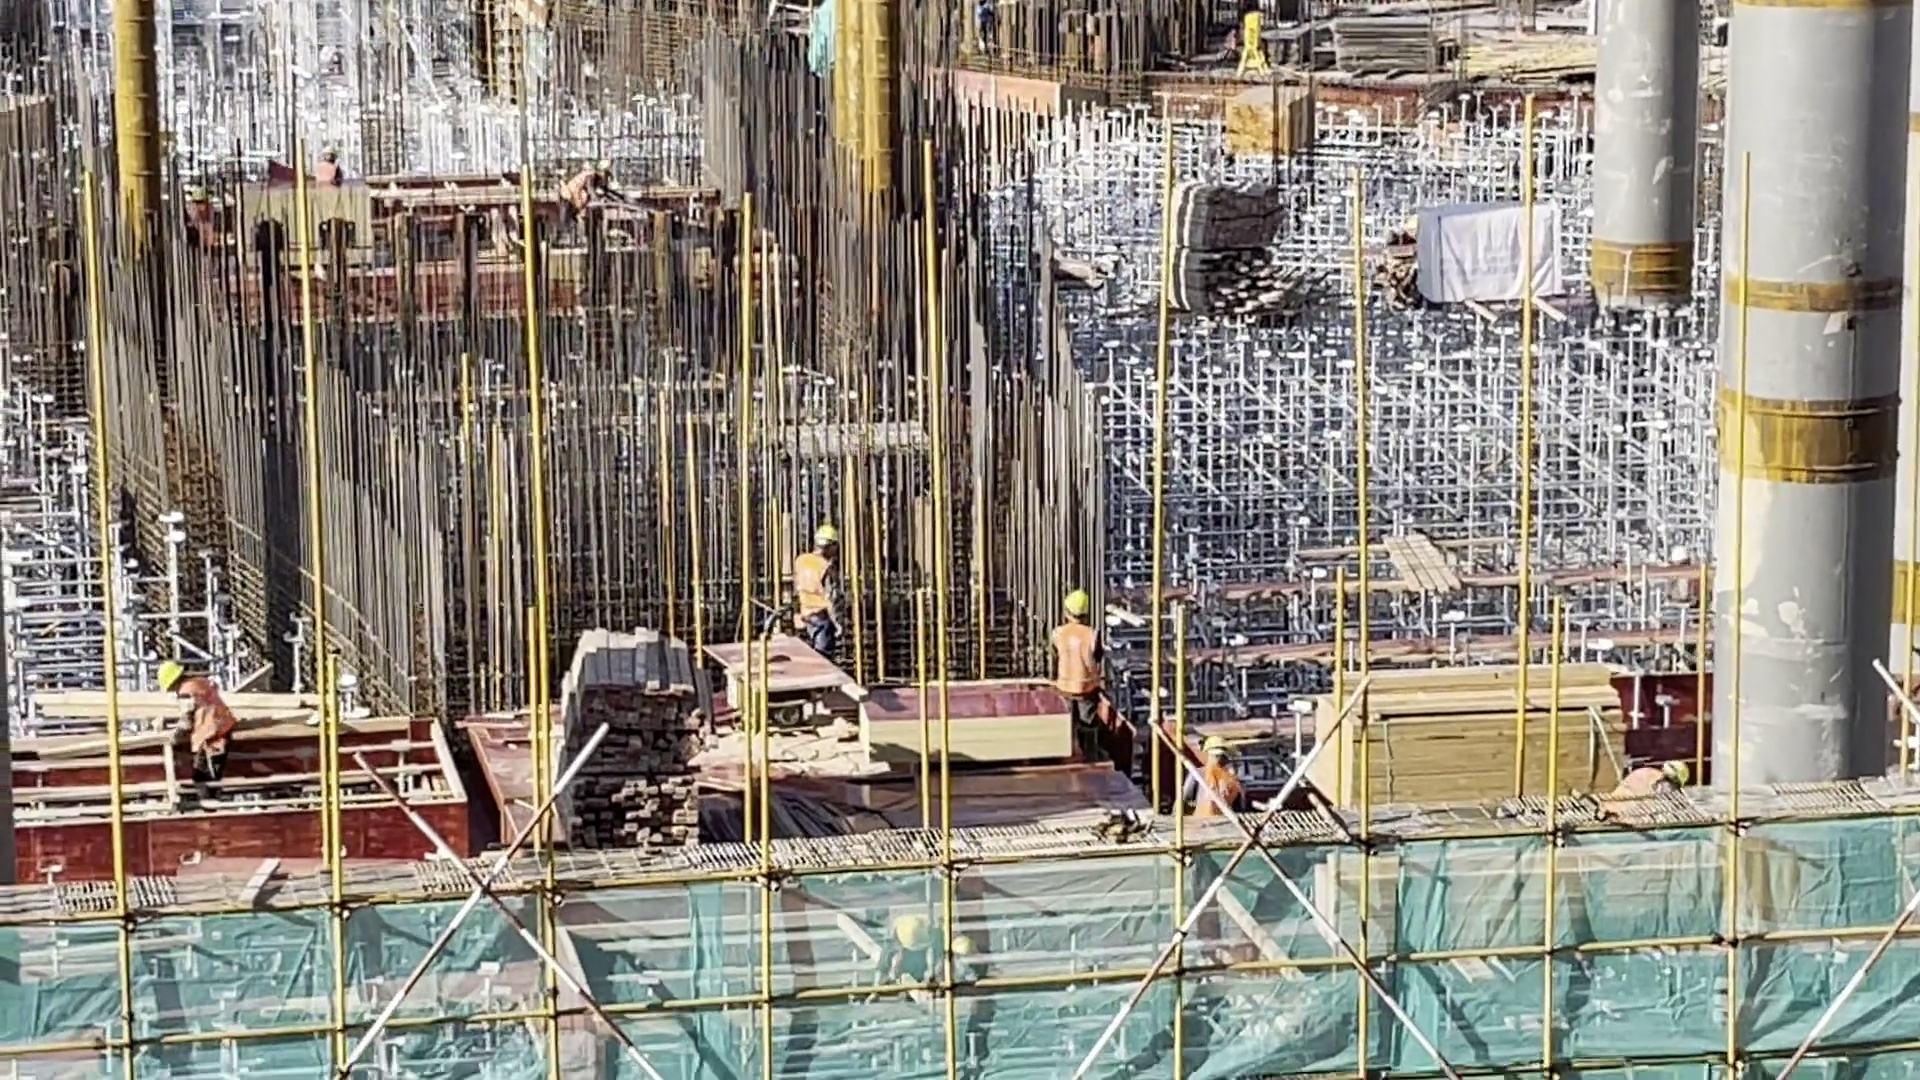helmet: (152, 661, 188, 695), (1063, 587, 1092, 626), (815, 523, 841, 554), (1659, 760, 1686, 787), (1204, 735, 1226, 758)
person: (151, 657, 234, 786), (789, 523, 848, 665), (1047, 587, 1107, 698), (1619, 753, 1692, 804)
vest: (180, 676, 229, 753), (1048, 626, 1101, 691), (792, 554, 838, 623)
